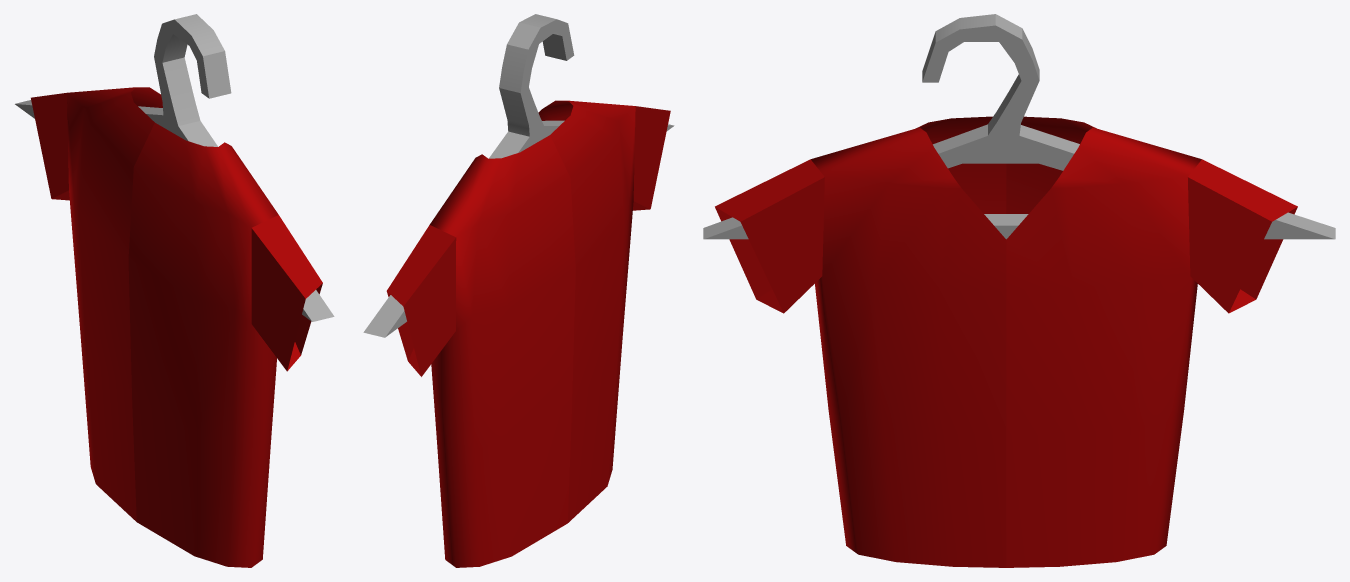
Rendered from hanger2.fbx.
3 renders of one model, left to right at view 1: azimuth 30°, elevation 25°; view 2: azimuth 150°, elevation 25°; view 3: azimuth 270°, elevation 25°, orthographic. The views are drawn at different scales.
Visible parts, largest first — view 1: pCylinder5, pPlane1; view 2: pCylinder5, pPlane1; view 3: pCylinder5, pPlane1.
Part boxes in pixels (x1,y1,x2,y2): pCylinder5: (31,87,322,567); pPlane1: (15,14,334,321); pCylinder5: (386,100,670,567); pPlane1: (363,14,674,337); pCylinder5: (715,116,1297,567); pPlane1: (703,14,1335,239).
Size of the model in its own units: 0.7792 by 3.89 by 4.22.
